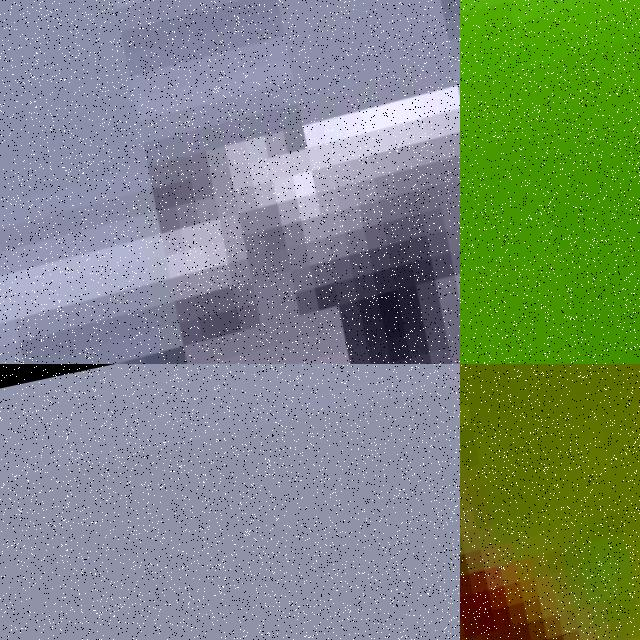drone: (0, 0, 460, 364), (460, 0, 640, 364), (460, 364, 640, 640)
